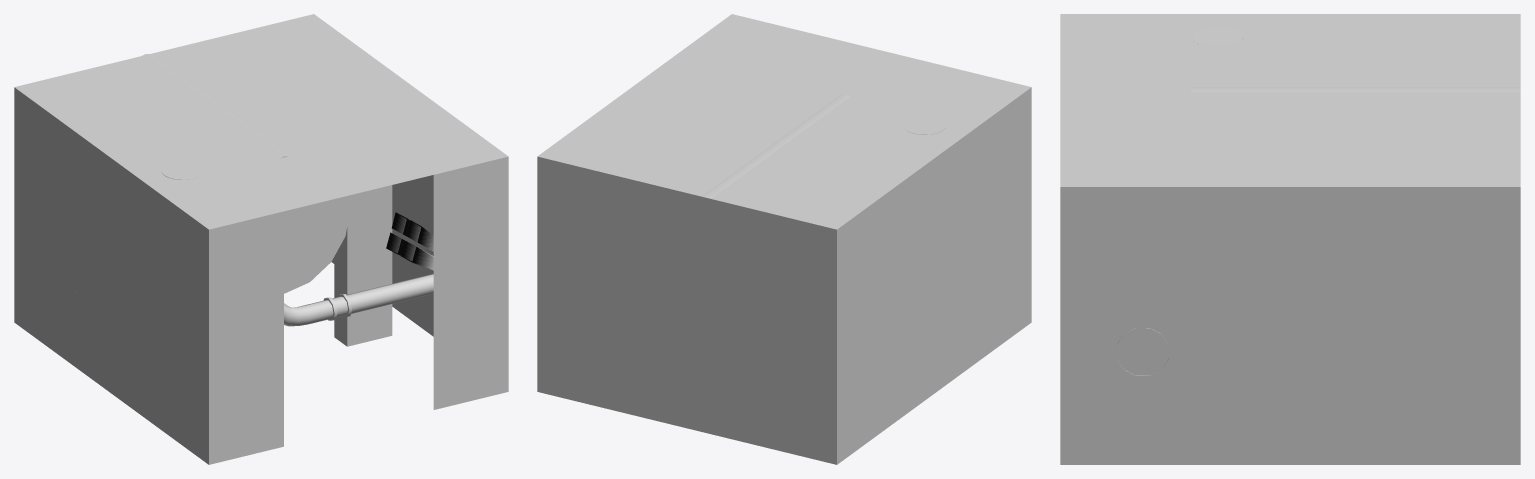
File: EngineRoom.fbx
3 views of the same model, side by side, from view 1: azimuth 30°, elevation 25°; view 2: azimuth 150°, elevation 25°; view 3: azimuth 270°, elevation 25° (orthographic). The views are drawn at different scales.
Visible parts, largest first — view 1: EngineRoomWalls, EngineRoomFloor, Engine1, Pipe2, WindowLight, Barrel2; view 2: EngineRoomWalls, EngineRoomFloor, Engine1, Barrel2; view 3: EngineRoomWalls, EngineRoomFloor, Engine1, Barrel2.
Part boxes in pixels (x1,y1,x2,y2): EngineRoomWalls: [14, 87, 508, 464]; EngineRoomFloor: [14, 14, 508, 229]; Engine1: [141, 54, 350, 293]; Pipe2: [284, 274, 433, 326]; WindowLight: [386, 212, 433, 270]; Barrel2: [161, 162, 203, 179]; EngineRoomWalls: [537, 87, 1031, 464]; EngineRoomFloor: [537, 14, 1031, 229]; Engine1: [701, 94, 849, 198]; Barrel2: [903, 116, 945, 134]; EngineRoomWalls: [1060, 187, 1520, 464]; EngineRoomFloor: [1060, 14, 1520, 186]; Engine1: [1191, 87, 1520, 92]; Barrel2: [1192, 26, 1242, 45].
Size of the model in its own units: 801 by 603 by 900.
